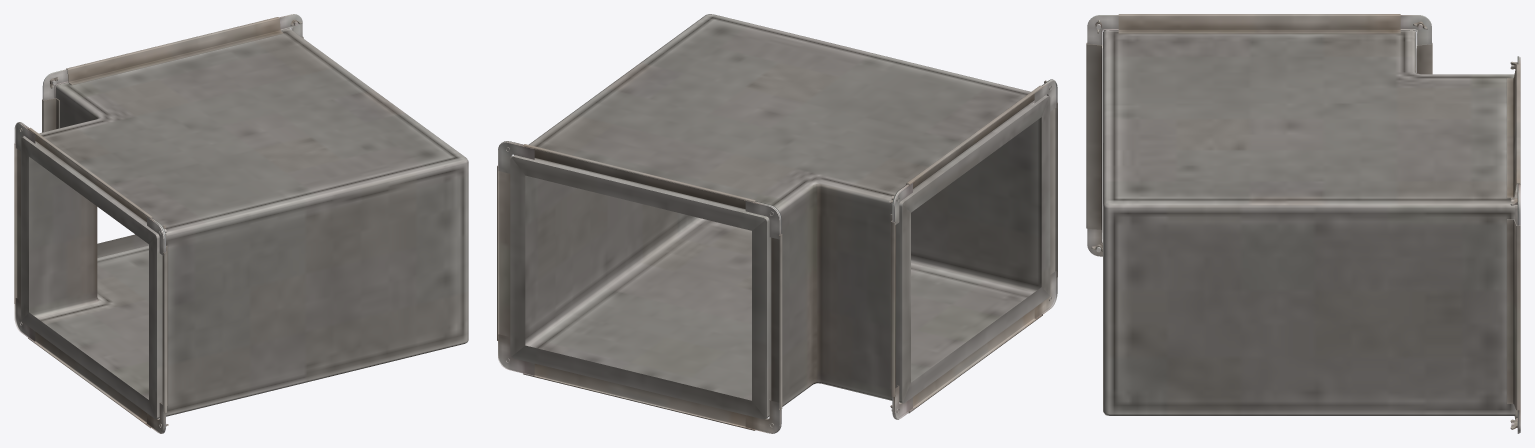
The model's file is duct_square_corner.glb.
The picture shows the model from 3 angles, left to right: view 1: azimuth 30°, elevation 25°; view 2: azimuth 150°, elevation 25°; view 3: azimuth 270°, elevation 25°; orthographic projection. The views are drawn at different scales.
Visible parts, largest first — view 1: duct_square_corner; view 2: duct_square_corner; view 3: duct_square_corner.
Part boxes in pixels (x1=…): duct_square_corner: x1=14, y1=14, x2=468, y2=433; duct_square_corner: x1=497, y1=14, x2=1057, y2=433; duct_square_corner: x1=1086, y1=14, x2=1520, y2=433.
Size of the model in its own units: 0.8317 by 0.5126 by 0.8317.
Materials: 2 (2 with a texture image).
